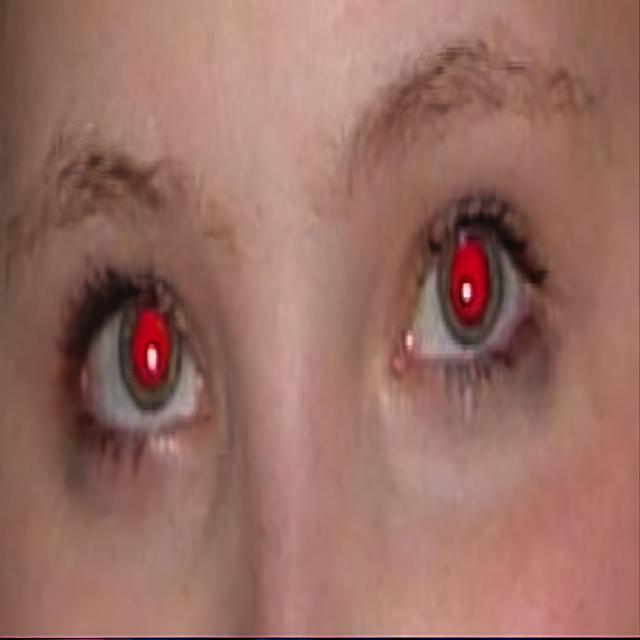reflexo-normal: (394, 227, 548, 372), (78, 256, 194, 444)
